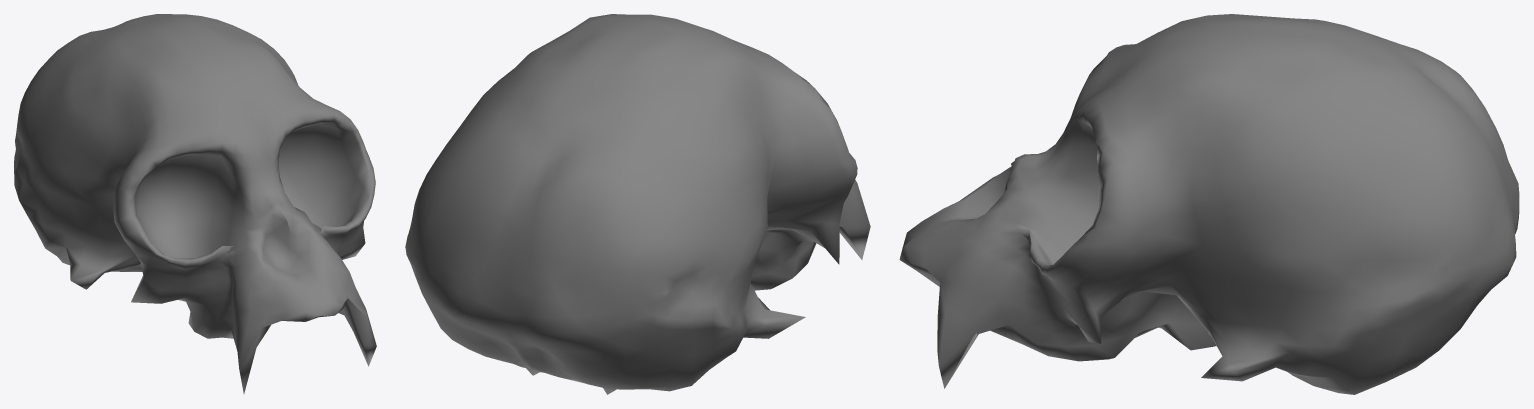
3 renders of one model, left to right at view 1: azimuth 30°, elevation 25°; view 2: azimuth 150°, elevation 25°; view 3: azimuth 270°, elevation 25°, orthographic. The views are drawn at different scales.
Visible parts, largest first — view 1: pMesh1; view 2: pMesh1; view 3: pMesh1.
Boxes of the visible parts, x1,y1,x2,y2 form: pMesh1: (14,14,376,393); pMesh1: (405,14,870,394); pMesh1: (899,14,1519,394).
Bounding box in the file's own units: 1.89 × 1.74 × 3.
